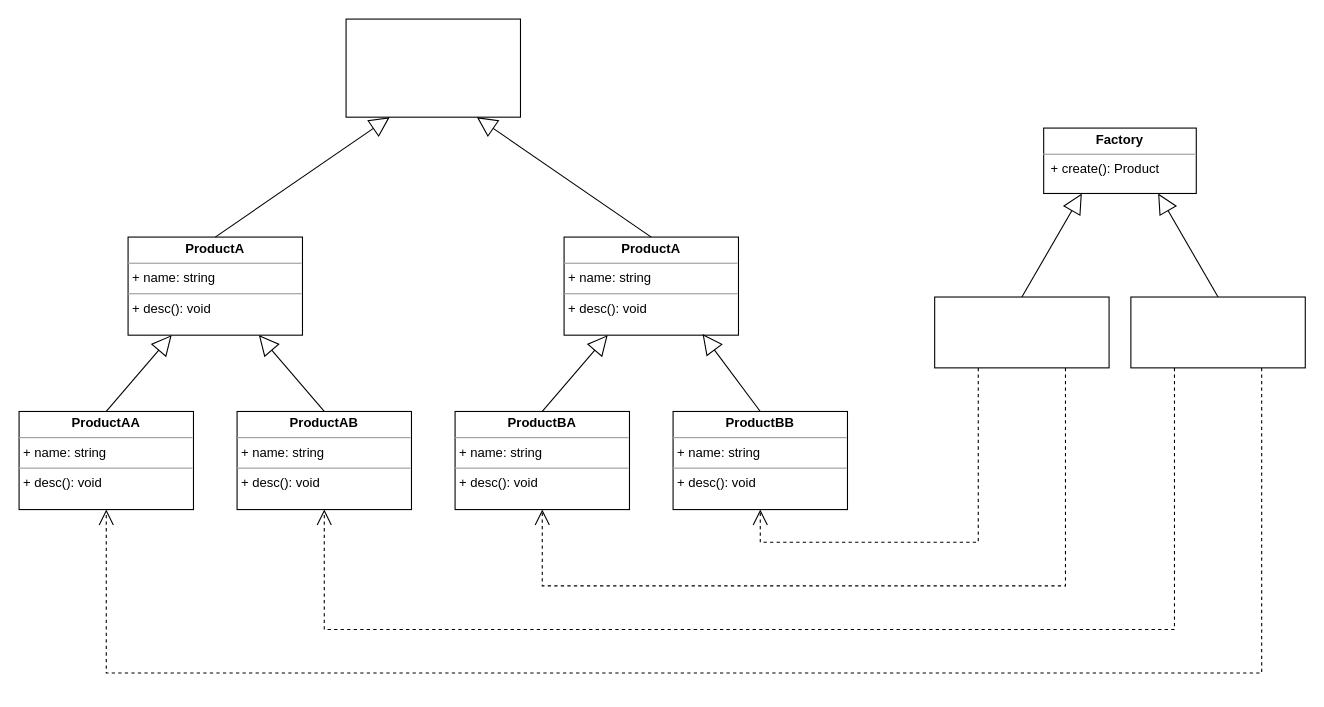
The diagram is 1324 pixels wide and 707 high, and some of its shapes have lost their labels. Each missing label, with the centre of its shape:
"FactoryA + create(name): ProductA" goes at (x=1217, y=332).
"FactoryB + create(name): ProductB" goes at (x=1021, y=332).
"Product + name: string + desc(): void" goes at (x=432, y=67).
